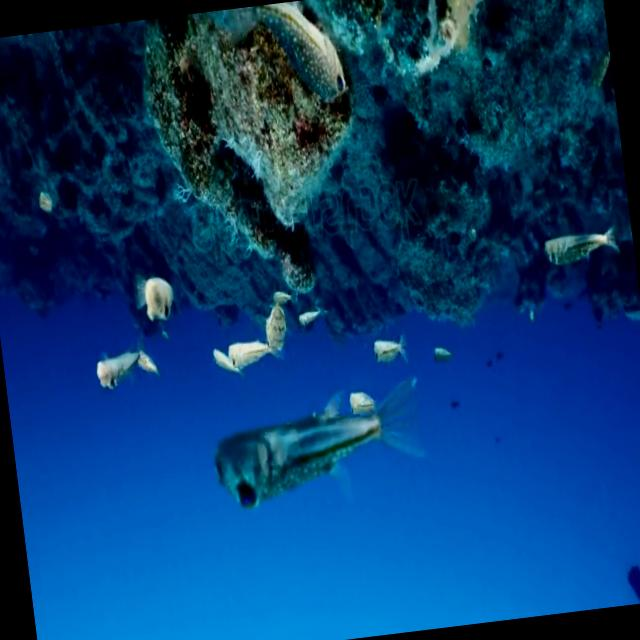Balon Baligi: (205, 373, 432, 516), (526, 209, 631, 280), (84, 344, 164, 403), (134, 266, 177, 343), (254, 290, 296, 364), (226, 334, 272, 374), (366, 332, 408, 372), (298, 301, 328, 344), (428, 341, 458, 368)
